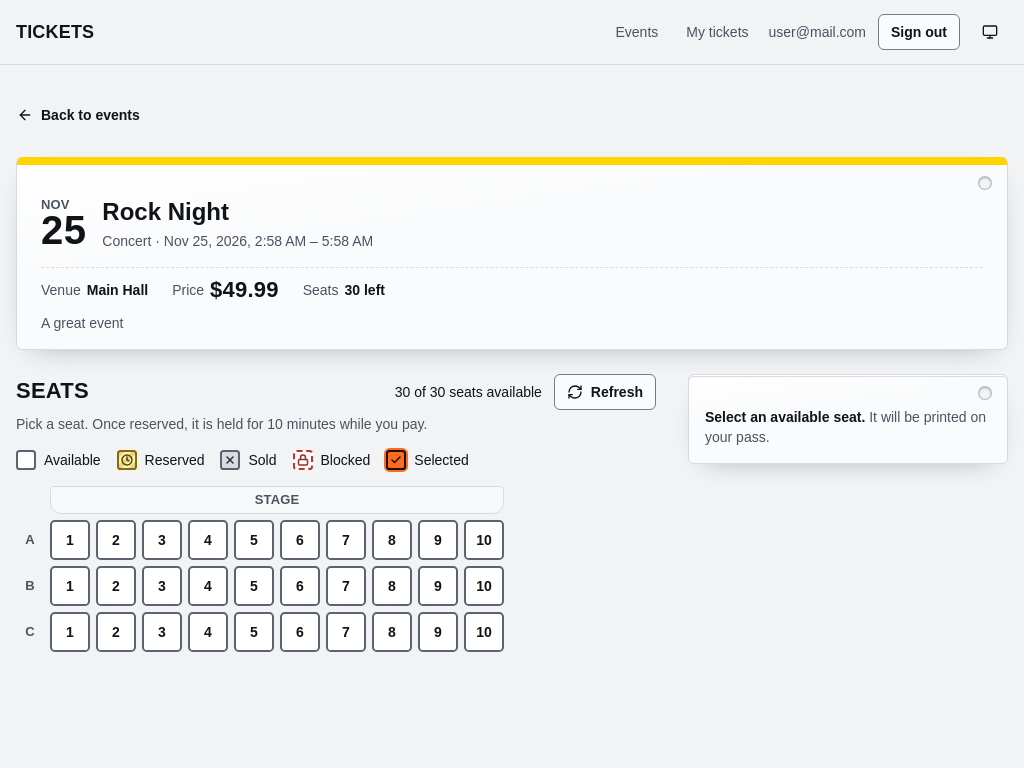
reserving seats › says "seat" in singular when the event limit is 1
Click the button named "Seat C7, Available" at (346, 632), box x1=326 y1=612 x2=366 y2=652
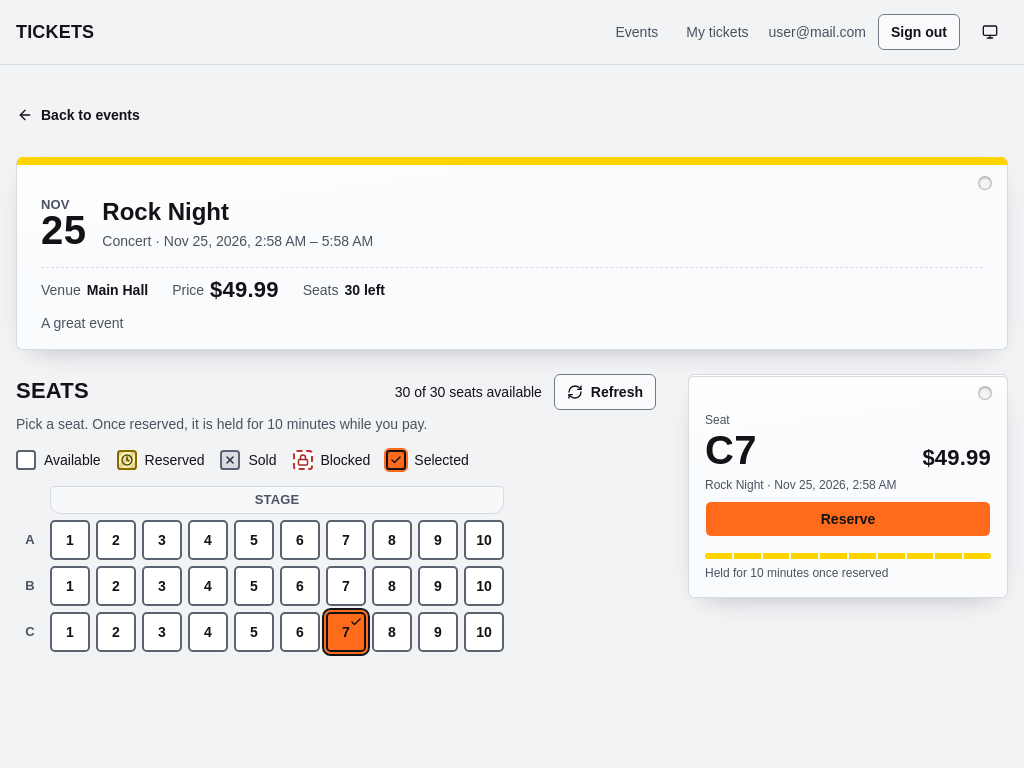
Click the button "Reserve" at (848, 519), box x1=705 y1=501 x2=991 y2=537
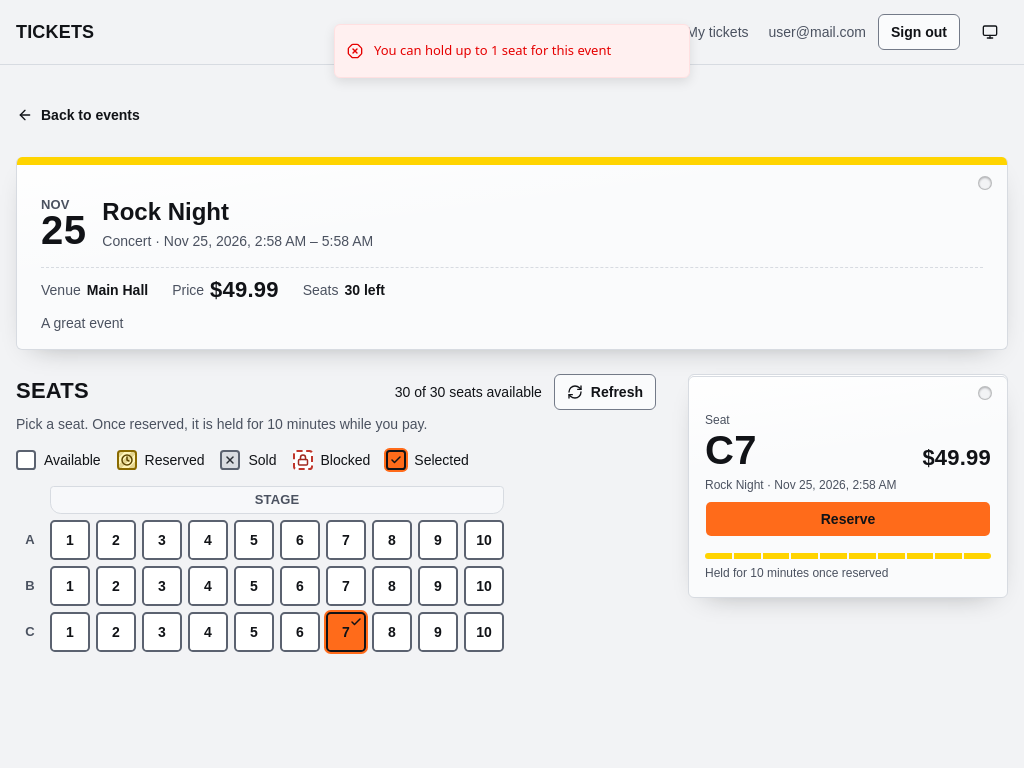
Check: the text "You can hold up to 1 seat for this event" is shown, box x1=374 y1=41 x2=611 y2=60
